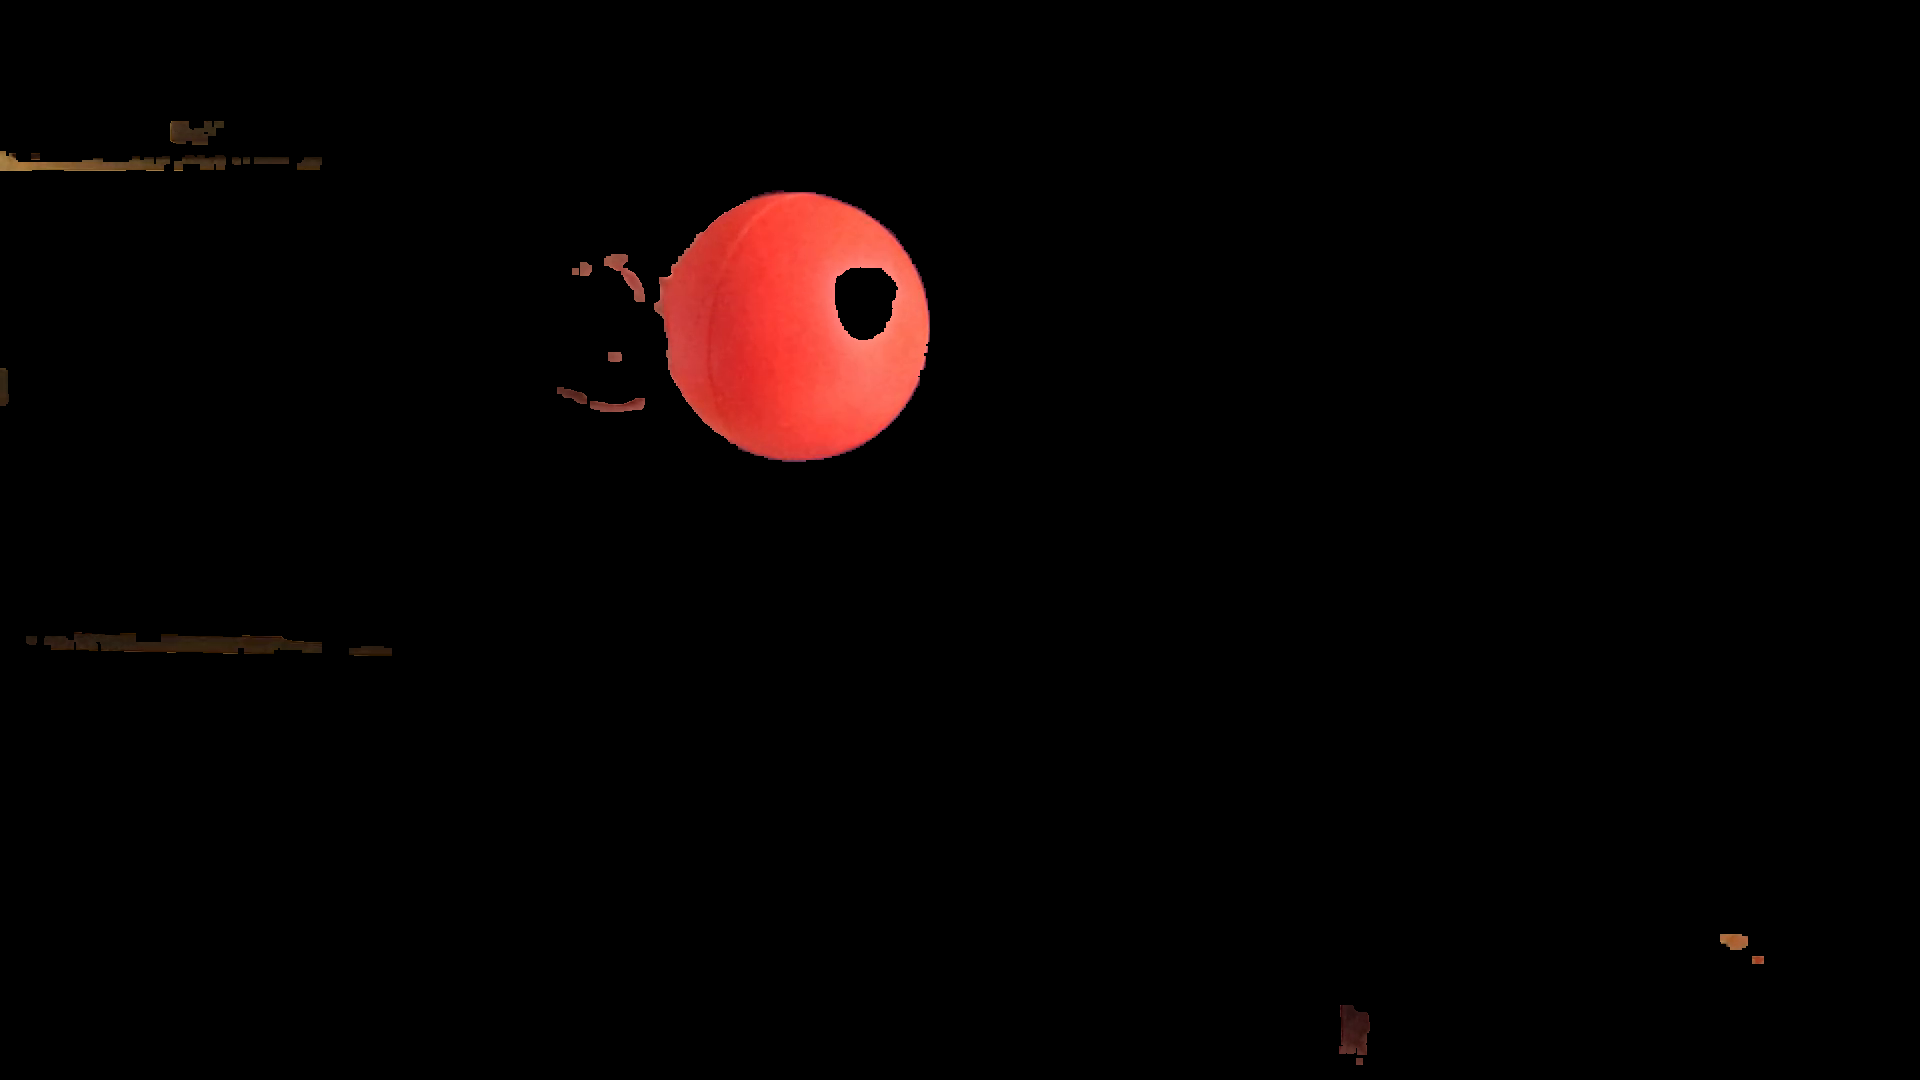Ball: (658, 193, 934, 458)
